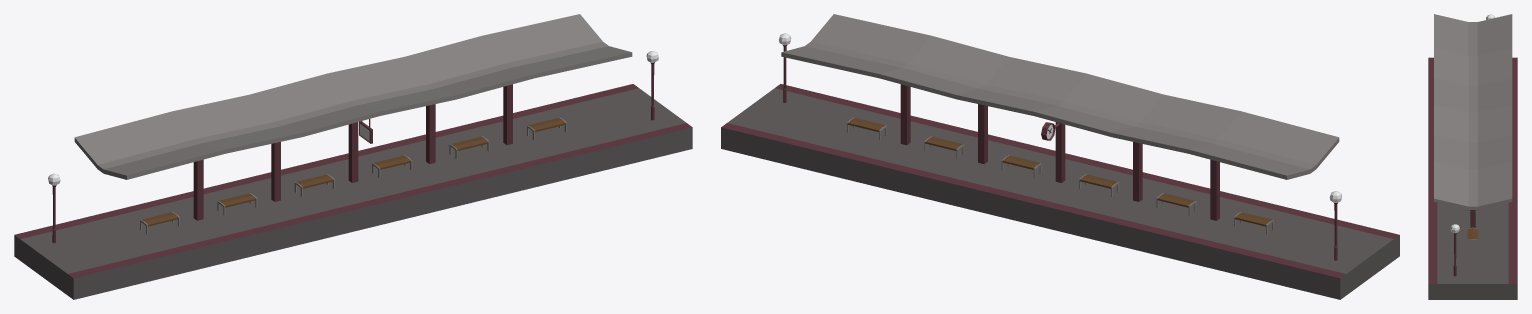
The model's file is buildings-train-station-platform.glb.
3 renders of one model, left to right at view 1: azimuth 30°, elevation 25°; view 2: azimuth 150°, elevation 25°; view 3: azimuth 270°, elevation 25°, orthographic. The views are drawn at different scales.
Parts seen in each view (by area): view 1: train-station-platform; view 2: train-station-platform; view 3: train-station-platform.
Boxes of the visible parts, <box> form: train-station-platform: <box>14,14,692,299</box>; train-station-platform: <box>721,14,1399,299</box>; train-station-platform: <box>1428,14,1517,299</box>.
Bounding box in the file's own units: 30.04 × 5.1 × 5.
